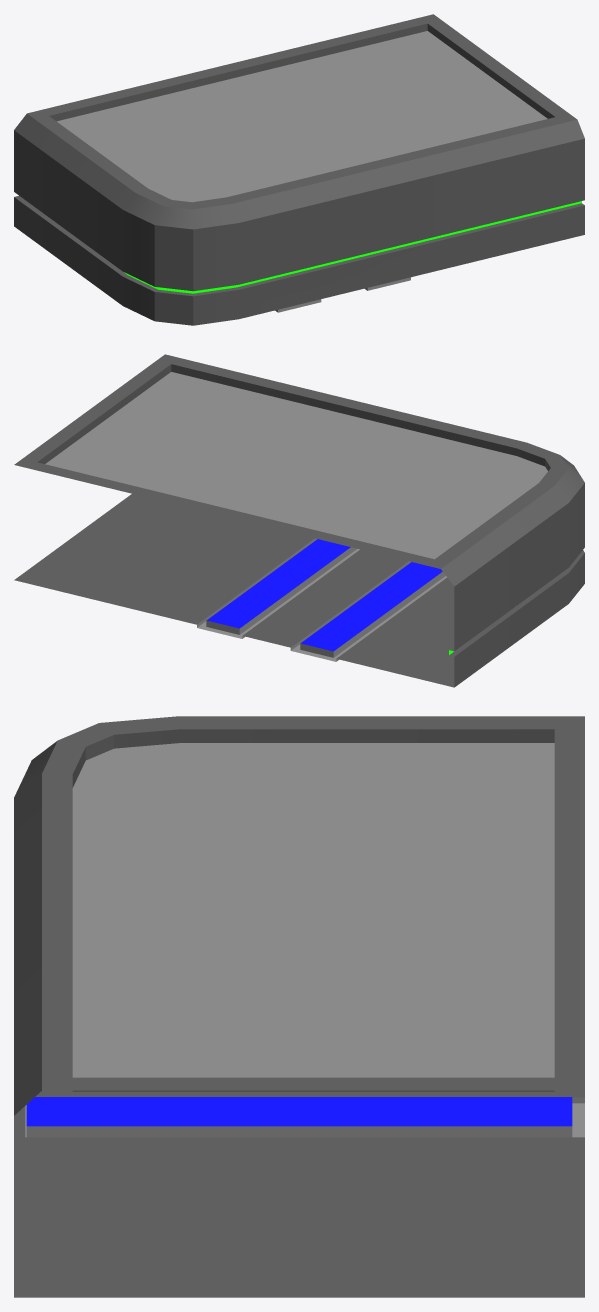
File: Door_Eaves_04_Corner.FBX
3 views of the same model, one above another, from view 1: azimuth 30°, elevation 25°; view 2: azimuth 150°, elevation 25°; view 3: azimuth 270°, elevation 25° (orthographic). The views are drawn at different scales.
Parts seen in each view (by area): view 1: Door_Eaves_04_Corner_LOD0; view 2: Door_Eaves_04_Corner_LOD0; view 3: Door_Eaves_04_Corner_LOD0.
Part boxes in pixels (box(x1,y1,x2,y2)): Door_Eaves_04_Corner_LOD0: box(14, 14, 584, 325); Door_Eaves_04_Corner_LOD0: box(14, 354, 584, 687); Door_Eaves_04_Corner_LOD0: box(14, 716, 584, 1297).
Size of what is drawn, in the model's own units: 72 by 18.5 by 45.
